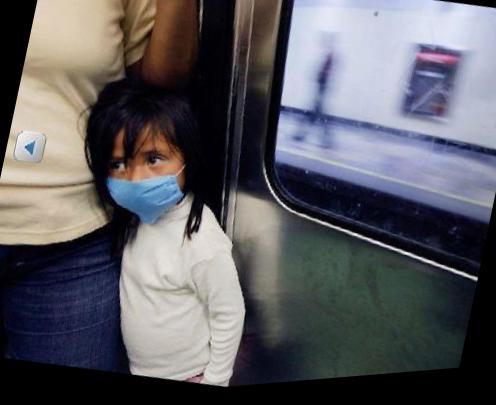WRONG: (100, 135, 189, 230)
